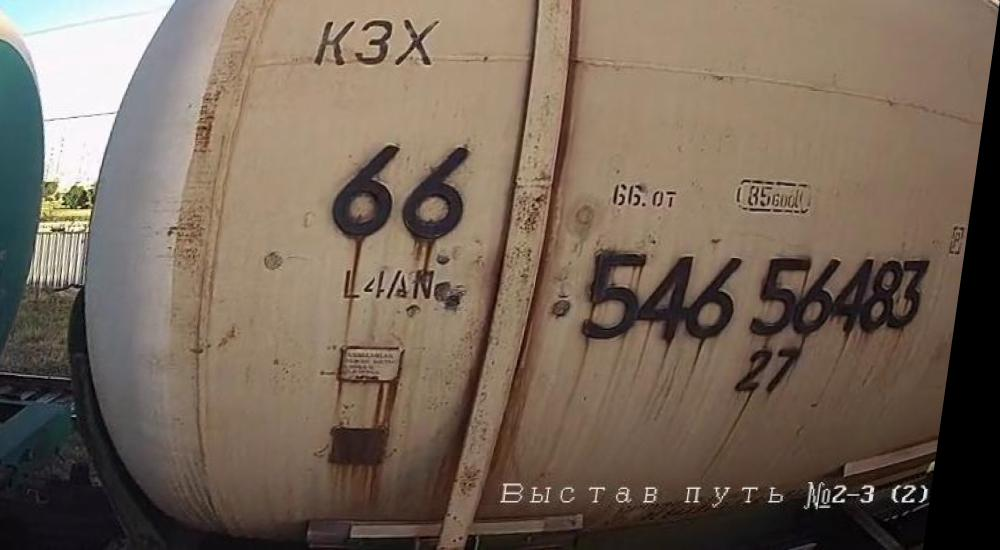Wagon-number: (581, 247, 947, 344)
